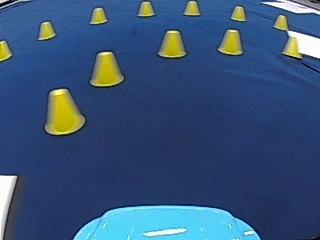cone: (44, 87, 84, 135), (89, 49, 124, 86), (157, 29, 186, 58), (217, 28, 243, 55), (37, 20, 55, 40), (282, 35, 299, 56), (89, 7, 107, 24), (137, 1, 154, 17), (183, 0, 199, 16), (230, 5, 246, 21), (0, 39, 12, 59), (273, 14, 288, 30)
